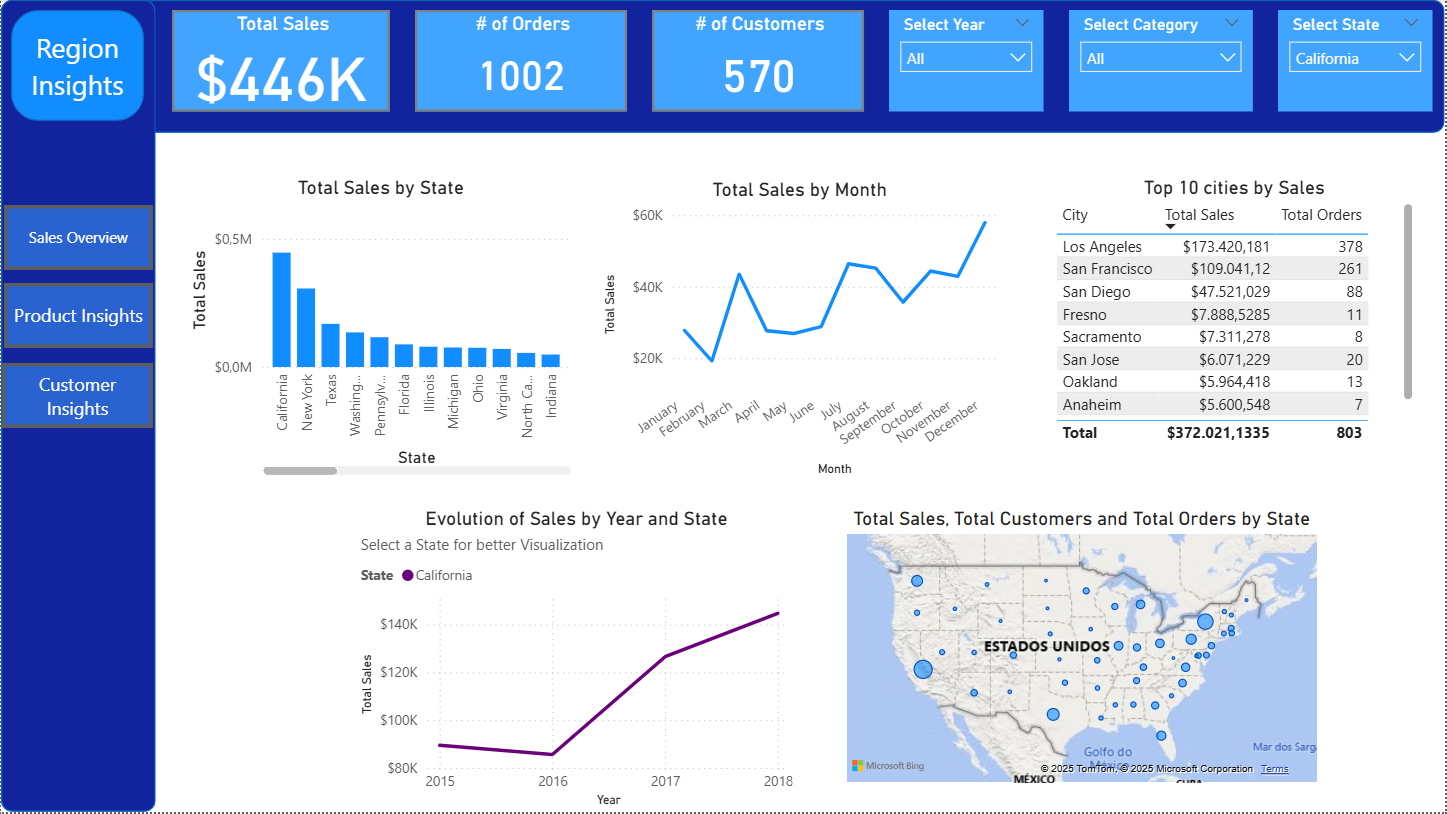

This screenshot's page, from the dashboard's own definition file:
{"tool":"powerbi","page":{"name":"Regions Insights","canvas":[1280,720],"ordinal":3},"visuals":[{"type":"columnChart","fields":{"Category":["train.State"],"Y":["train.Total Sales"]},"box":[163.4,155.6,347.2,270.4],"z":0},{"type":"map","fields":{"Category":["train.State"],"Size":["train.Total Sales"]},"box":[745,449.4,427,249],"z":1000},{"type":"tableEx","title":"Top 10 cities by Sales","fields":{"Values":["train.City","train.Total Sales","train.Total Orders"]},"box":[929.8,155.6,326.8,241.2],"z":2000},{"type":"lineChart","title":"Evolution of Sales by Year and State","fields":{"Category":["train.Year"],"Y":["train.Total Sales"],"Series":["train.State"]},"box":[314.2,449.4,392.9,270.4],"z":3000},{"type":"lineChart","fields":{"Category":["train.MonthStart.Variation.Date Hierarchy.Month"],"Y":["train.Total Sales"]},"box":[529.1,157.6,357.9,268.4],"z":4000},{"type":"shape","box":[0,0,1280,117.7],"z":5000},{"type":"shape","box":[0,0,137.1,719.8],"z":6000},{"type":"shape","box":[8.9,8.9,117.9,98.4],"z":7000},{"type":"card","title":"Total Sales","fields":{"Values":["train.Total Sales"]},"box":[151.6,8.9,193.3,90.4],"z":8000},{"type":"card","title":"# of Orders","fields":{"Values":["train.Total Orders"]},"box":[367.1,8.9,188,90.4],"z":9000},{"type":"card","title":"# of Customers","fields":{"Values":["train.Total Customers"]},"box":[577.2,8.9,188,90.4],"z":10000},{"type":"slicer","fields":{"Values":["train.Year"]},"box":[787.3,8.8,137.1,90.5],"z":11000},{"type":"slicer","fields":{"Values":["train.State"]},"box":[1132.2,8.8,137.1,90.5],"z":12000},{"type":"actionButton","title":"Product Insights","box":[2.7,181.8,132.1,57.6],"z":13000},{"type":"actionButton","title":"Product Insights","box":[2.7,250.9,132.1,57.6],"z":14000},{"type":"actionButton","title":"Product Insights","box":[0.9,321.9,133.9,57.6],"z":15000},{"type":"slicer","fields":{"Values":["train.Category"]},"box":[946.6,8.8,163.4,90.5],"z":16000}]}

Visuals, with their boxes in screenshot pixels (x1, y1, x2, y2), scaled from the page's 1280x720 canvas onto the 1447x814 screenshot:
columnChart - train.State x train.Total Sales: bbox(185, 176, 577, 482)
map - train.State x train.Total Sales: bbox(842, 508, 1325, 790)
"Top 10 cities by Sales" tableEx: bbox(1051, 176, 1421, 449)
"Evolution of Sales by Year and State" lineChart: bbox(355, 508, 799, 813)
lineChart - train.MonthStart.Variation.Date Hierarchy.Month x train.Total Sales: bbox(598, 178, 1003, 482)
shape: bbox(0, 0, 1446, 133)
shape: bbox(0, 0, 155, 813)
shape: bbox(10, 10, 143, 121)
"Total Sales" card: bbox(171, 10, 390, 112)
"# of Orders" card: bbox(415, 10, 628, 112)
"# of Customers" card: bbox(653, 10, 865, 112)
slicer - train.Year: bbox(890, 10, 1045, 112)
slicer - train.State: bbox(1280, 10, 1435, 112)
"Product Insights" actionButton: bbox(3, 206, 152, 271)
"Product Insights" actionButton: bbox(3, 284, 152, 349)
"Product Insights" actionButton: bbox(1, 364, 152, 429)
slicer - train.Category: bbox(1070, 10, 1255, 112)
